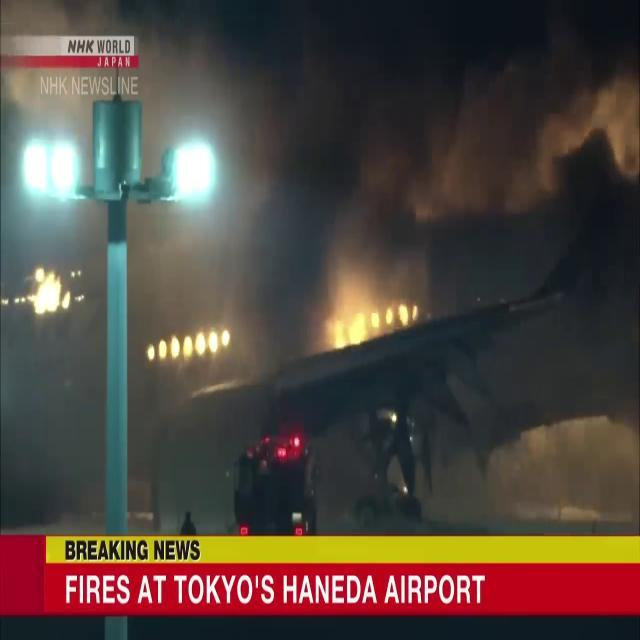Fire: (324, 290, 421, 348), (29, 264, 70, 320)
Smoke: (230, 1, 640, 295)
